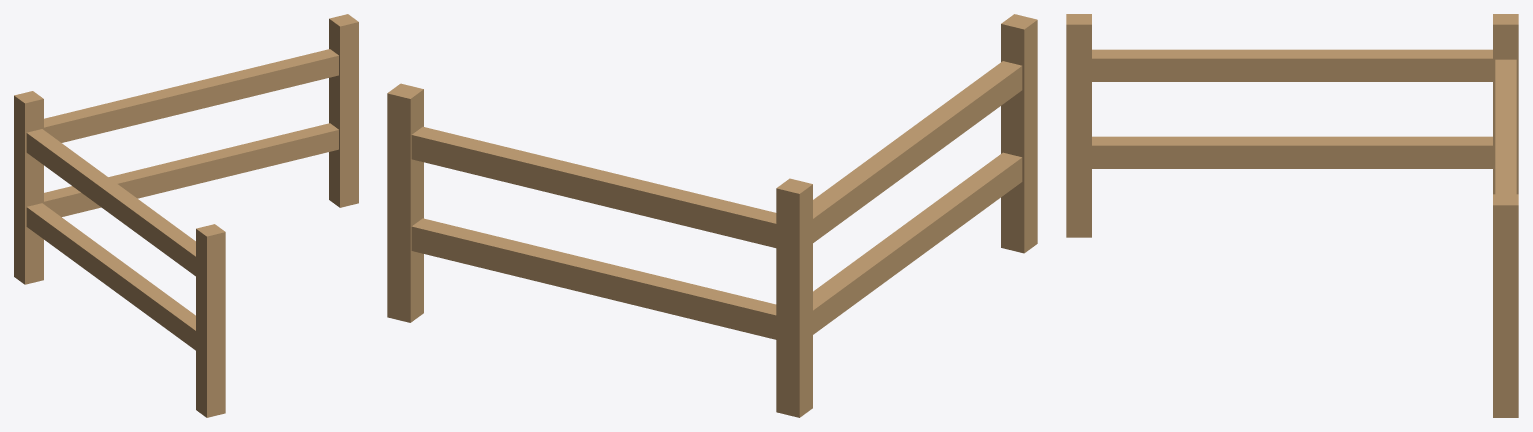
File: cozy-farm-and-homestead-fence-corner-b4a933d2__19372.glb
The picture shows the model from 3 angles, left to right: view 1: azimuth 30°, elevation 25°; view 2: azimuth 150°, elevation 25°; view 3: azimuth 270°, elevation 25°; orthographic projection. The views are drawn at different scales.
Visible parts, largest first — view 1: fence-corner; view 2: fence-corner; view 3: fence-corner.
Part boxes in pixels (x1,y1,x2,y2): fence-corner: (14,14,358,417); fence-corner: (387,14,1037,417); fence-corner: (1066,14,1518,417).
Bounding box in the file's own units: 2.12 × 1.1 × 2.12.
